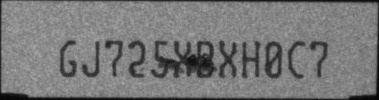0: (264, 39, 283, 78)
2: (127, 40, 146, 78)
5: (151, 39, 168, 79)
7: (310, 39, 328, 78), (105, 39, 123, 77)
B: (195, 38, 214, 78)
C: (287, 39, 305, 78)
G: (58, 39, 78, 77)
H: (241, 41, 259, 79)
J: (81, 40, 99, 77)
X: (172, 40, 193, 78), (218, 39, 238, 78)
